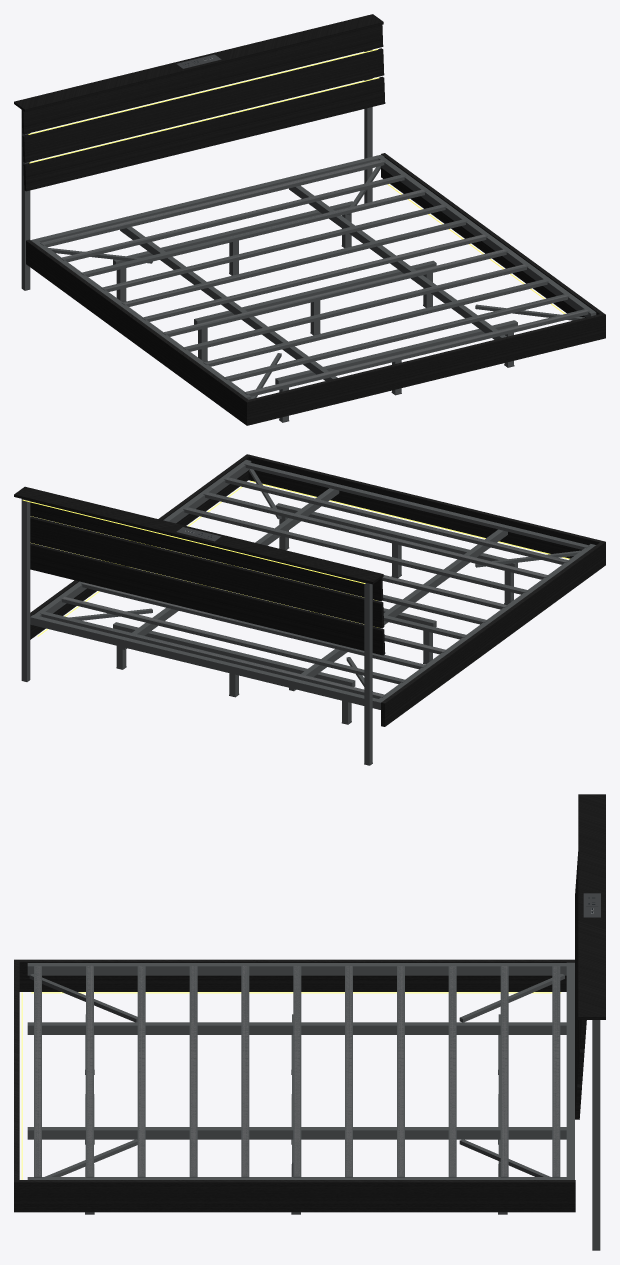
3 views of the same model, one above another, from view 1: azimuth 30°, elevation 25°; view 2: azimuth 150°, elevation 25°; view 3: azimuth 270°, elevation 25° (orthographic). The views are drawn at different scales.
Parts seen in each view (by area): view 1: Headboard wood panel 2, Headboard wood panel 1, Foot wood rail, Headboard wood panel 3, Side wood rail -37.85, Headboard storage shelf, Side wood rail 37.85, Steel slat 10, Side steel tube 36.75, Steel slat 04, Steel slat 09, Steel slat 05 (+22 smaller); view 2: Headboard wood panel 1, Headboard wood panel 2, Foot wood rail, Side wood rail -37.85, Headboard wood panel 3, Headboard storage shelf, Head cross rail, Steel slat 11, Steel slat 08, Steel slat 10, Steel slat 09, Steel slat 02 (+20 smaller); view 3: Side wood rail 37.85, Side wood rail -37.85, Side steel tube -36.75, Longitudinal support -18, Longitudinal support 18, Headboard storage shelf, Headboard upright 36.5, Head cross rail, Steel slat 03, Steel slat 01, Steel slat 06, Steel slat 08 (+25 smaller).
Boxes of the visible parts, left/top/right/bottom form: Headboard wood panel 2: left=22, top=48, right=384, bottom=162; Headboard wood panel 1: left=23, top=76, right=385, bottom=191; Foot wood rail: left=245, top=314, right=605, bottom=425; Headboard wood panel 3: left=21, top=21, right=383, bottom=134; Side wood rail -37.85: left=26, top=239, right=250, bottom=425; Headboard storage shelf: left=14, top=14, right=383, bottom=111; Side wood rail 37.85: left=381, top=153, right=605, bottom=338; Steel slat 10: left=223, top=294, right=569, bottom=381; Side steel tube 36.75: left=377, top=156, right=596, bottom=317; Steel slat 04: left=101, top=204, right=446, bottom=291; Steel slat 09: left=203, top=279, right=548, bottom=366; Steel slat 05: left=122, top=219, right=467, bottom=306; Headboard wood panel 1: left=30, top=543, right=385, bottom=655; Headboard wood panel 2: left=30, top=516, right=384, bottom=628; Foot wood rail: left=245, top=454, right=605, bottom=566; Side wood rail -37.85: left=381, top=541, right=605, bottom=726; Headboard wood panel 3: left=23, top=487, right=383, bottom=601; Headboard storage shelf: left=14, top=486, right=383, bottom=584; Head cross rail: left=30, top=615, right=383, bottom=709; Steel slat 11: left=244, top=462, right=589, bottom=549; Steel slat 08: left=183, top=507, right=528, bottom=594; Steel slat 10: left=223, top=477, right=569, bottom=564; Steel slat 09: left=203, top=492, right=548, bottom=579; Steel slat 02: left=60, top=596, right=405, bottom=684; Side wood rail 37.85: left=14, top=1180, right=575, bottom=1212; Side wood rail -37.85: left=14, top=959, right=574, bottom=991; Side steel tube -36.75: left=27, top=963, right=571, bottom=975; Longitudinal support -18: left=27, top=1022, right=566, bottom=1034; Longitudinal support 18: left=27, top=1127, right=566, bottom=1139; Headboard storage shelf: left=578, top=794, right=605, bottom=1019; Headboard upright 36.5: left=592, top=1020, right=600, bottom=1249; Head cross rail: left=566, top=962, right=574, bottom=1179; Steel slat 03: left=448, top=964, right=456, bottom=1177; Steel slat 01: left=552, top=964, right=560, bottom=1177; Steel slat 06: left=293, top=964, right=301, bottom=1177; Steel slat 08: left=189, top=964, right=197, bottom=1177.
Size of the model in its own units: 1.94 by 0.9676 by 2.18.
7 materials, 1 textured.
